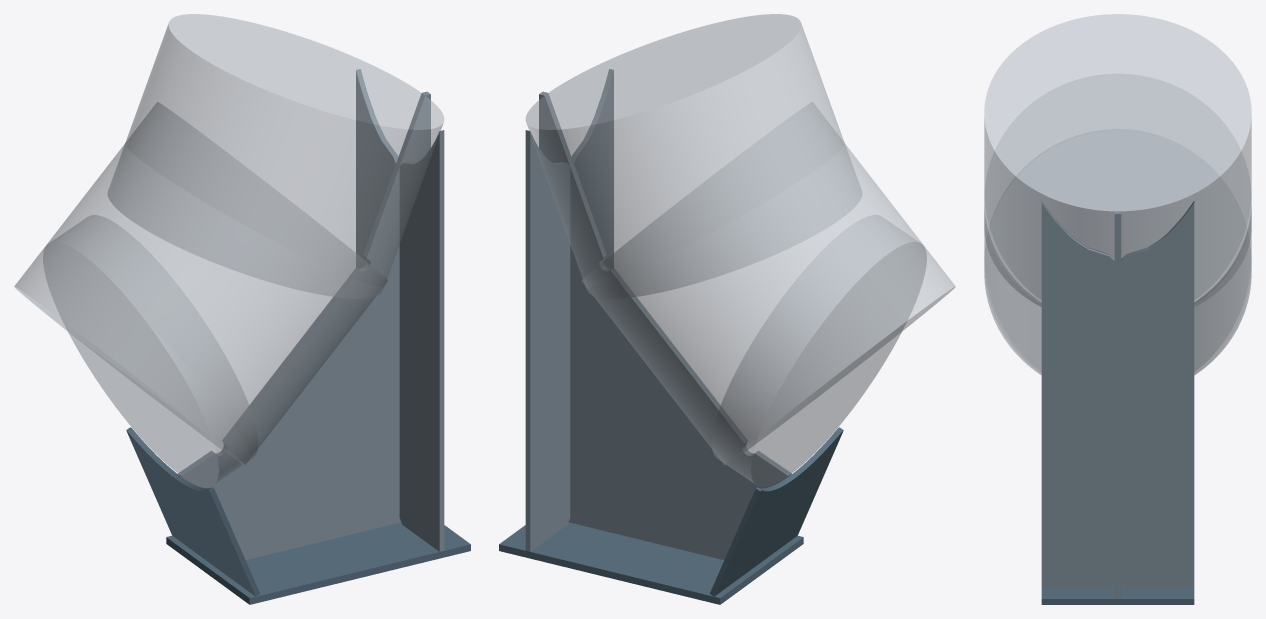
File: TS-631.000-10-opora-dn630-R950.glb
3 views of the same model, side by side, from view 1: azimuth 30°, elevation 25°; view 2: azimuth 150°, elevation 25°; view 3: azimuth 270°, elevation 25° (orthographic). The views are drawn at different scales.
Parts seen in each view (by area): view 1: truba_1, truba_0, kosynka_1, truba_2, rebro_3, osnovanie_0, sedlo_4, rebro_2; view 2: truba_1, truba_0, kosynka_1, truba_2, rebro_2, osnovanie_0, sedlo_4, rebro_3; view 3: truba_0, truba_1, rebro_2, rebro_3, truba_2, kosynka_1, osnovanie_0.
Boxes of the visible parts, x1=… form: truba_1: x1=14, y1=102, x2=387, y2=465; truba_0: x1=108, y1=14, x2=444, y2=298; kosynka_1: x1=178, y1=91, x2=430, y2=559; truba_2: x1=43, y1=215, x2=258, y2=486; rebro_3: x1=399, y1=130, x2=444, y2=551; osnovanie_0: x1=166, y1=522, x2=470, y2=604; sedlo_4: x1=126, y1=427, x2=259, y2=596; rebro_2: x1=356, y1=69, x2=398, y2=268; truba_1: x1=582, y1=102, x2=955, y2=465; truba_0: x1=525, y1=14, x2=861, y2=298; kosynka_1: x1=539, y1=91, x2=791, y2=559; truba_2: x1=711, y1=215, x2=926, y2=486; rebro_2: x1=525, y1=130, x2=570, y2=551; osnovanie_0: x1=499, y1=522, x2=803, y2=604; sedlo_4: x1=710, y1=427, x2=843, y2=596; rebro_3: x1=571, y1=69, x2=613, y2=268; truba_0: x1=984, y1=14, x2=1251, y2=306; truba_1: x1=984, y1=74, x2=1251, y2=374; rebro_2: x1=1121, y1=200, x2=1194, y2=586; rebro_3: x1=1041, y1=200, x2=1114, y2=586; truba_2: x1=984, y1=243, x2=1251, y2=373; kosynka_1: x1=1114, y1=211, x2=1121, y2=598; osnovanie_0: x1=1041, y1=582, x2=1194, y2=604.
Size of the model in its own units: 967 by 1258 by 630.
